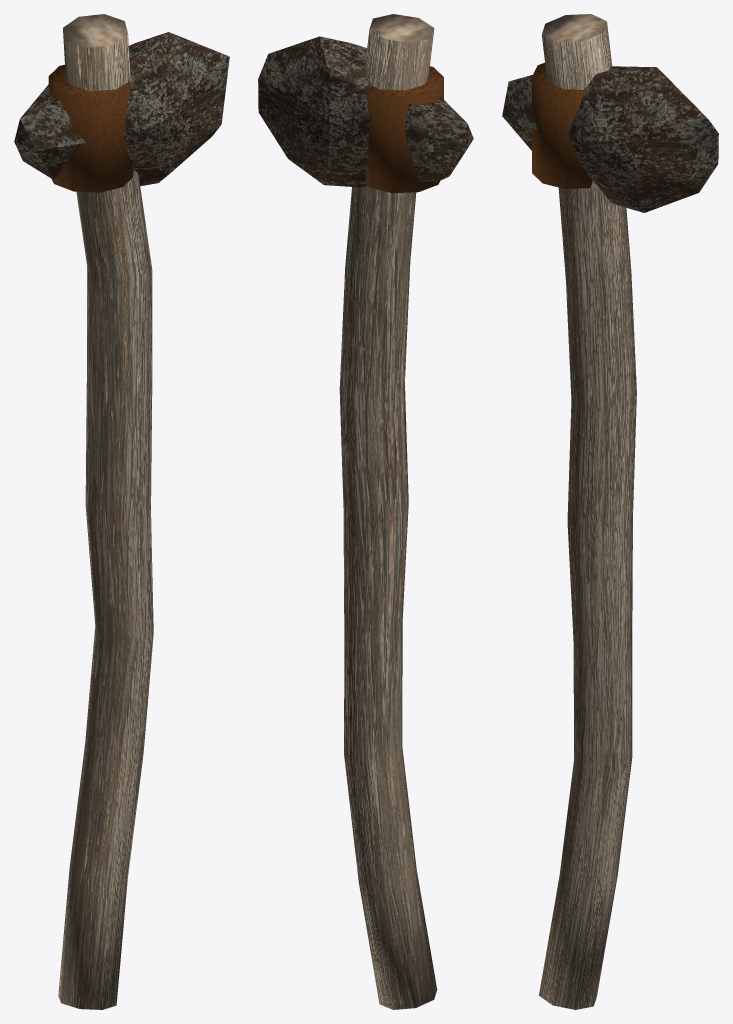
The model's file is SM_Item_stone_axe.gltf.
The picture shows the model from 3 angles, left to right: view 1: azimuth 30°, elevation 25°; view 2: azimuth 150°, elevation 25°; view 3: azimuth 330°, elevation 25°; orthographic projection.
Visible parts, largest first — view 1: SM_Item_stone_axe; view 2: SM_Item_stone_axe; view 3: SM_Item_stone_axe.
Boxes of the visible parts, bbox=[...] form: SM_Item_stone_axe: bbox=[14, 14, 229, 1009]; SM_Item_stone_axe: bbox=[258, 14, 473, 1009]; SM_Item_stone_axe: bbox=[502, 14, 718, 1009].
Bounding box in the file's own units: 0.1349 × 0.6045 × 0.0525.
3 materials, 3 textured.
